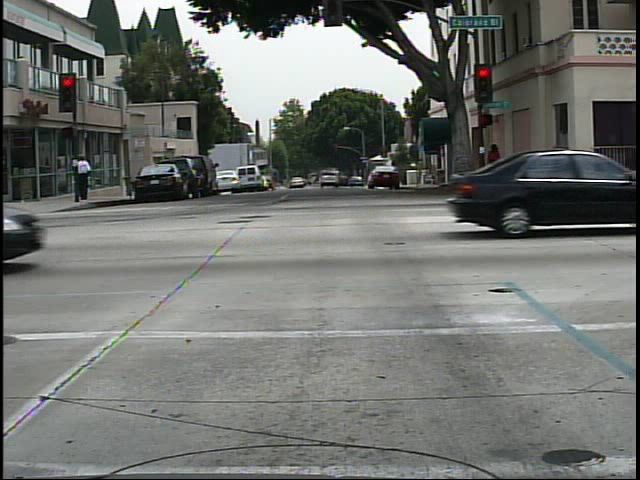person: (480, 138, 511, 191), (79, 150, 98, 202)
